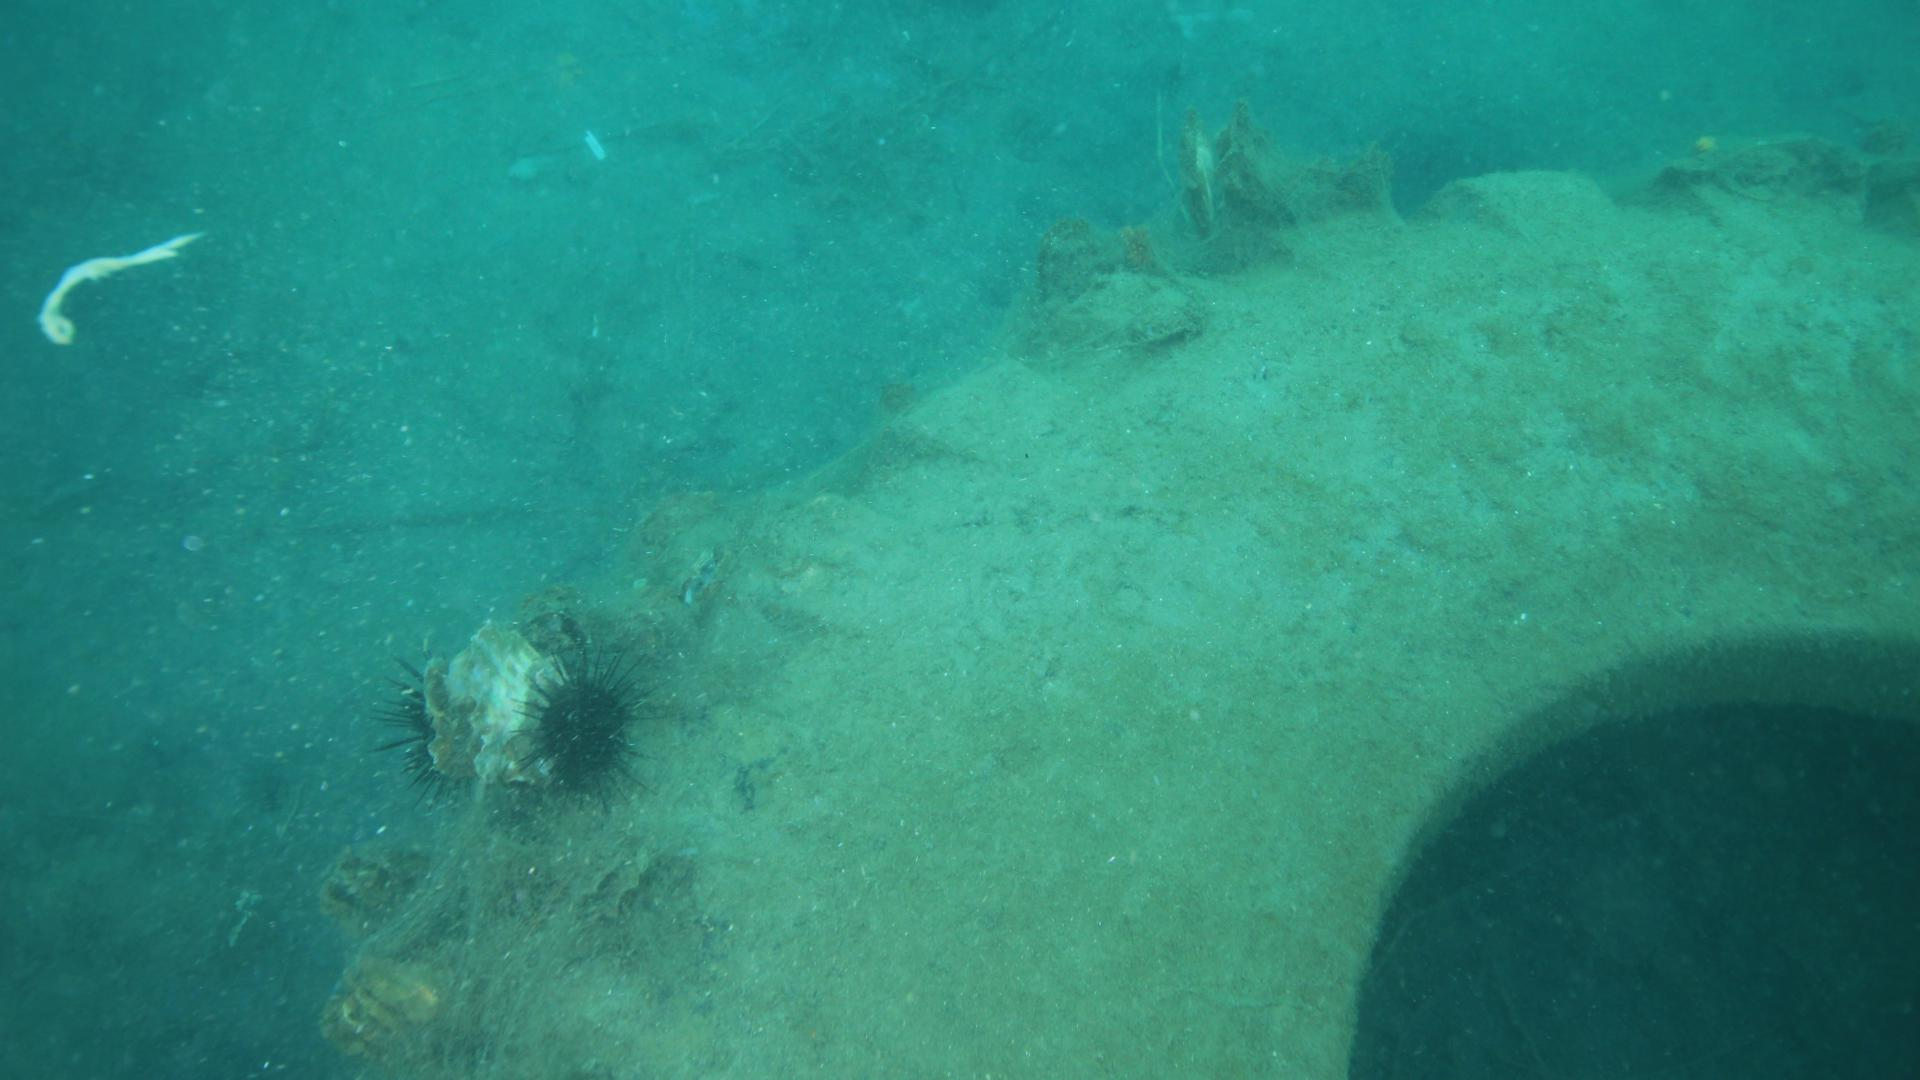tire: (316, 146, 1920, 1080)
